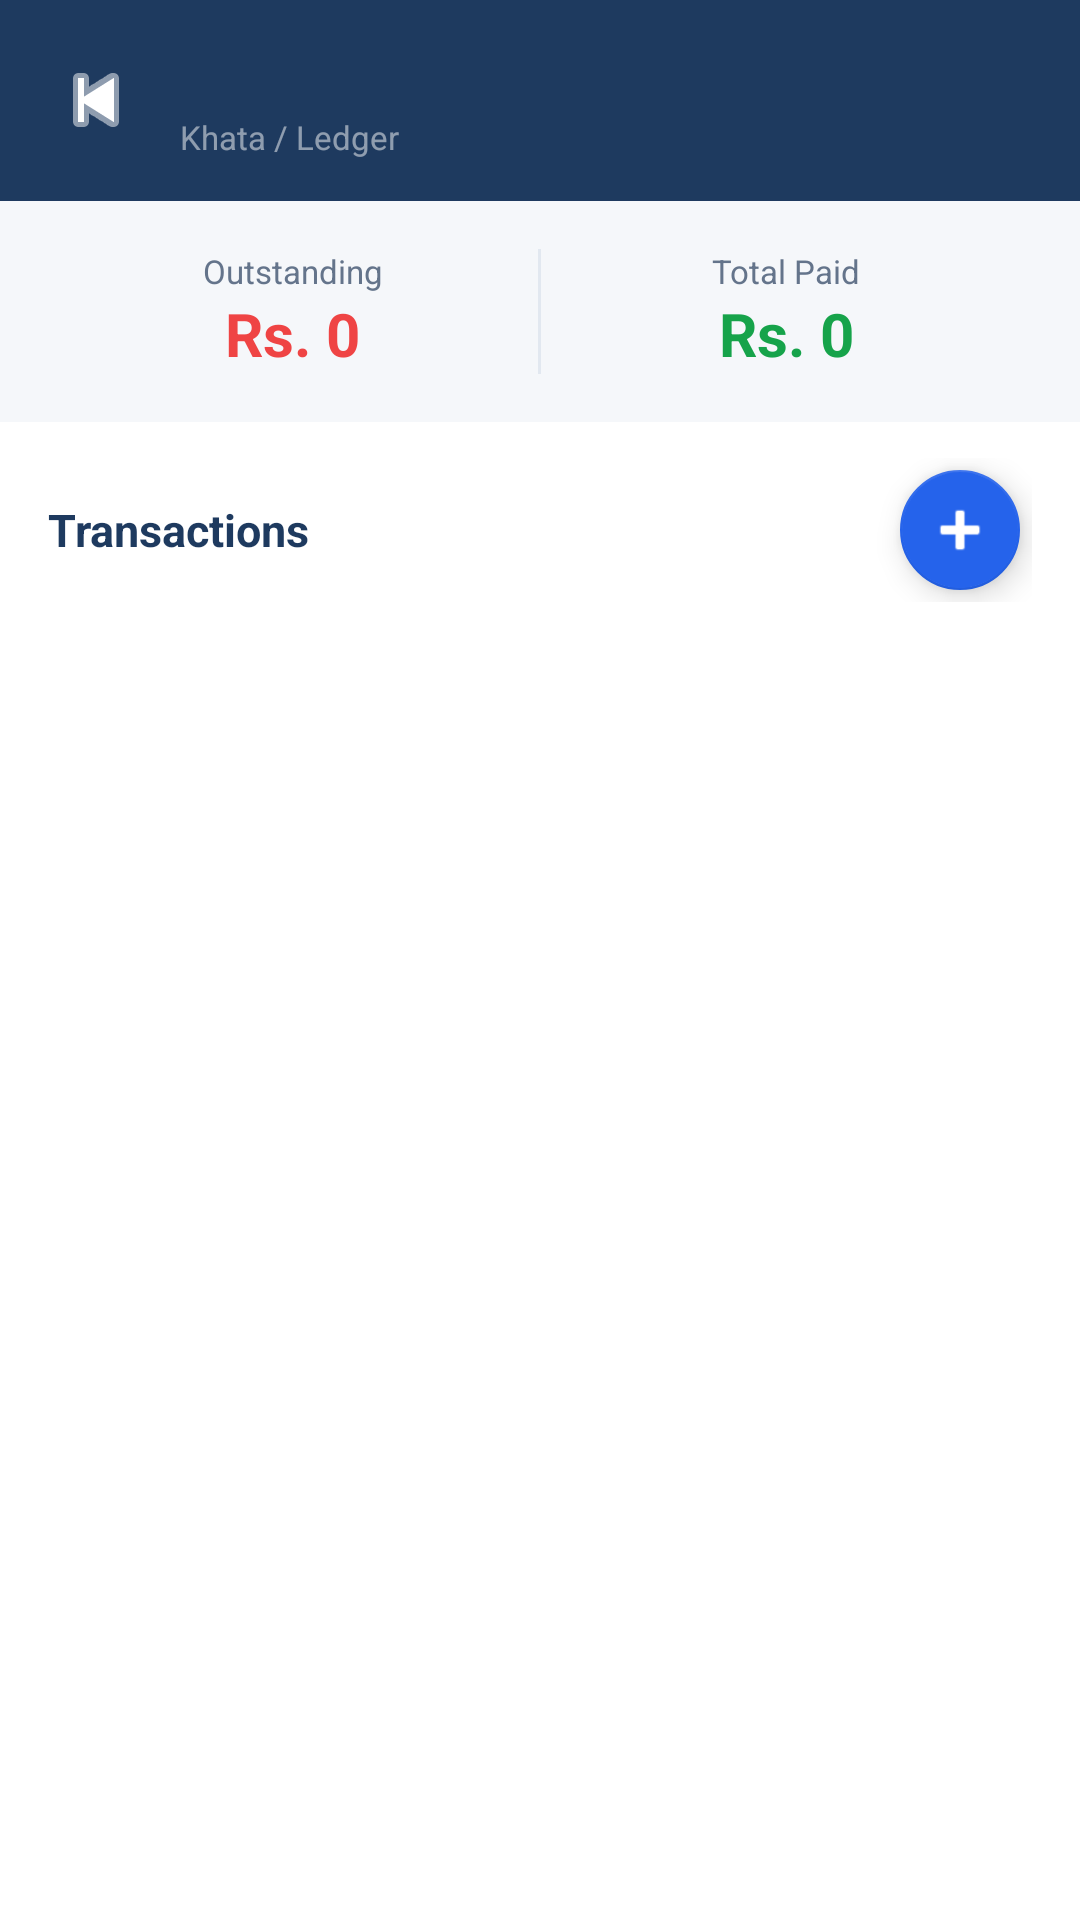

Named icons in this screenshot (1080*1920) and their centers, (x=x, y=y):
add: (x=961, y=531)
previous: (x=96, y=100)
